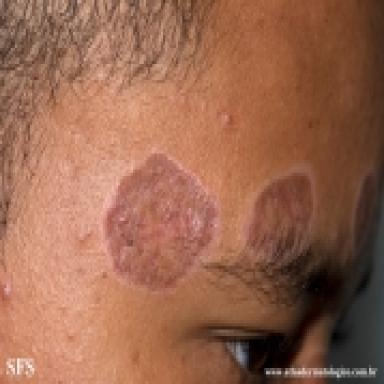Lupus-Erythematosus-Chronicus-Discoides: (104, 153, 217, 290), (247, 173, 313, 266), (354, 171, 377, 253)
